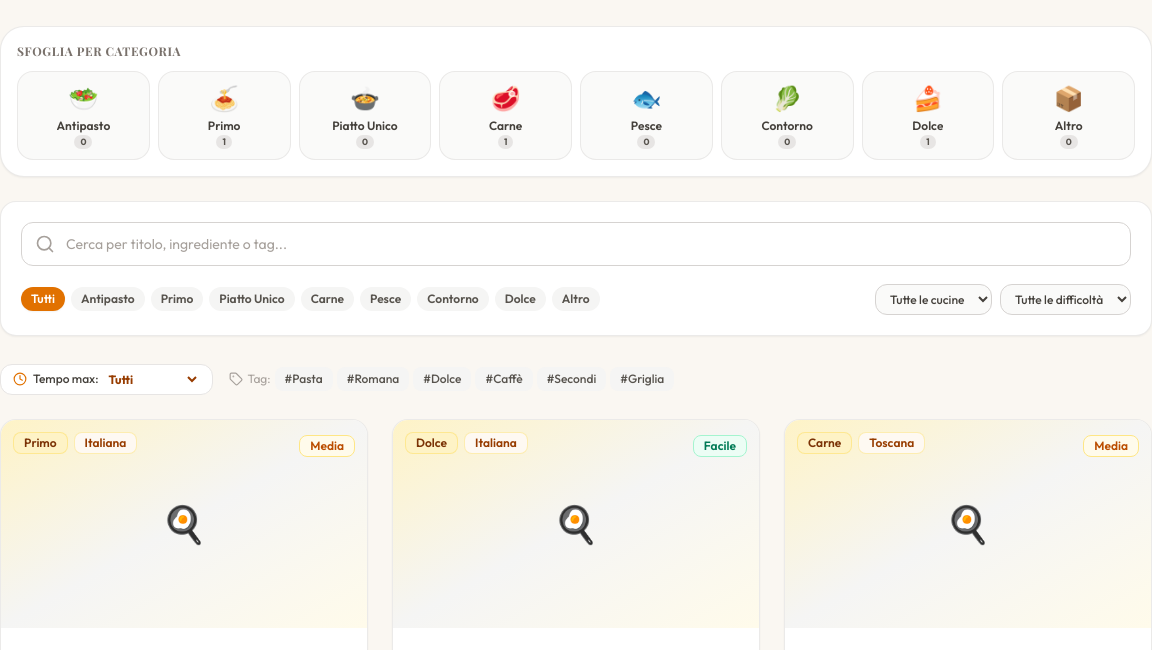
Test: C. TEST COMPONENTI & STATO - CatalogPage & Search › supporta la selezione multipla di categorie e aggiorna il conteggio/filtro
Note: Tap "Primo" category button
Click the button "🍝 Primo 1".
click(224, 115)  # box [158,71,291,160]
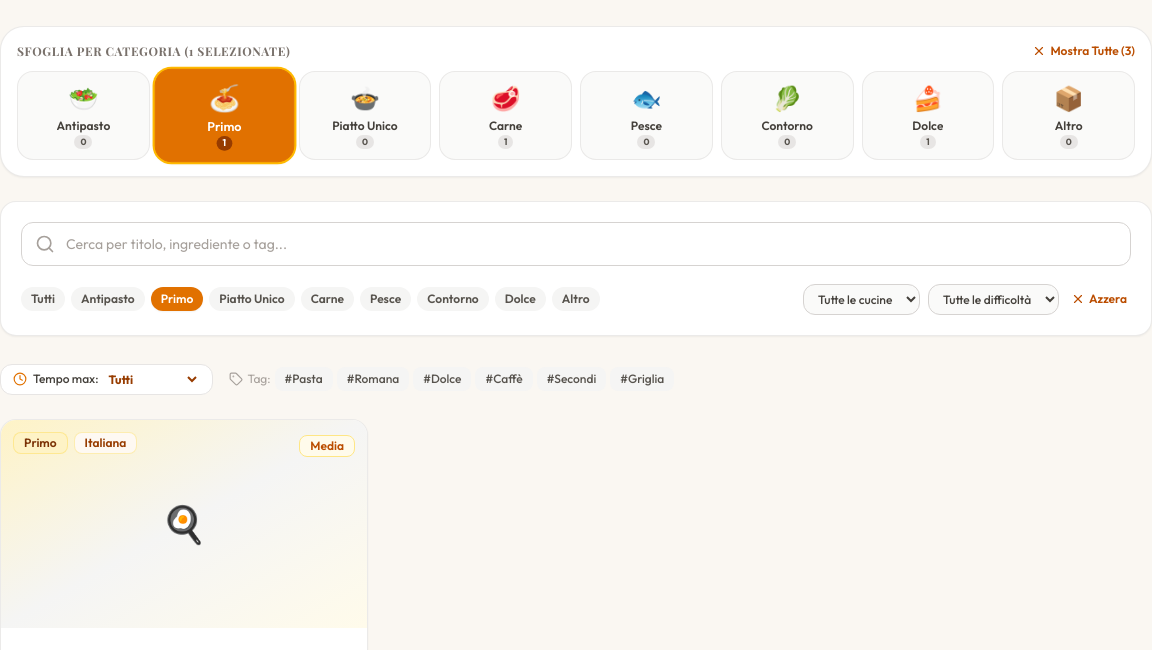
Note: Tap "Dolce" category button too (Multi-selection mode)
Click the button "🍰 Dolce 1".
click(928, 115)  # box [862,71,994,160]
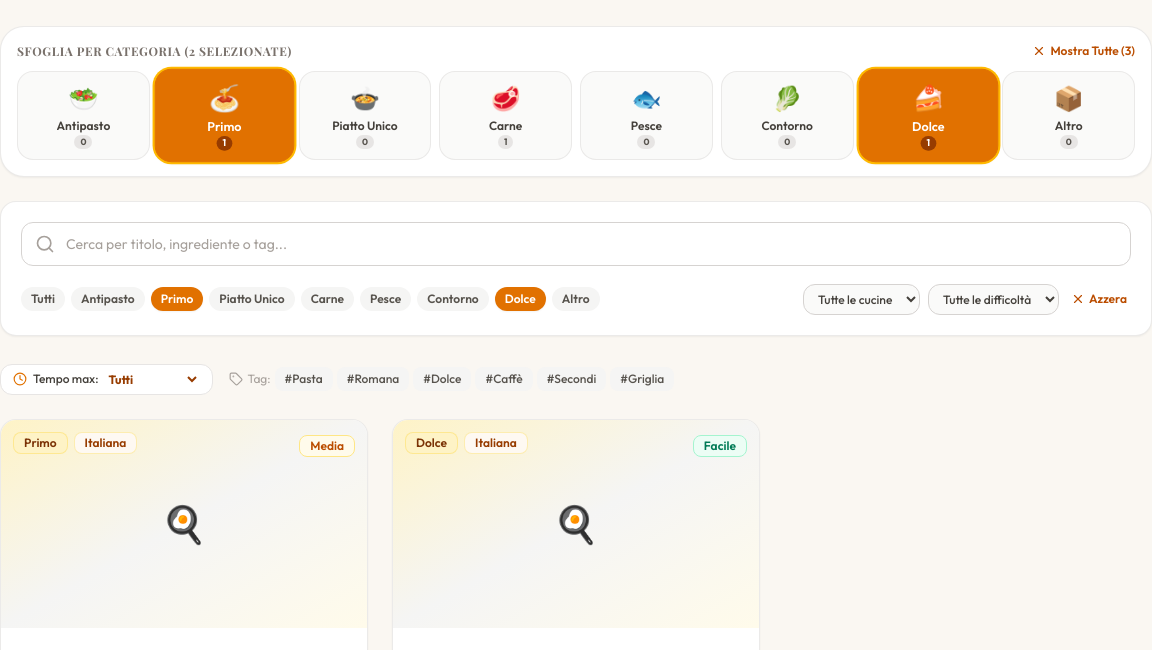
Expected: the heading "Bistecca alla Fiorentina" is not shown
Note: Clear category selection
Click the button "Mostra Tutte (3)".
click(1084, 51)  # box [1032,43,1135,59]
(page scrolled)
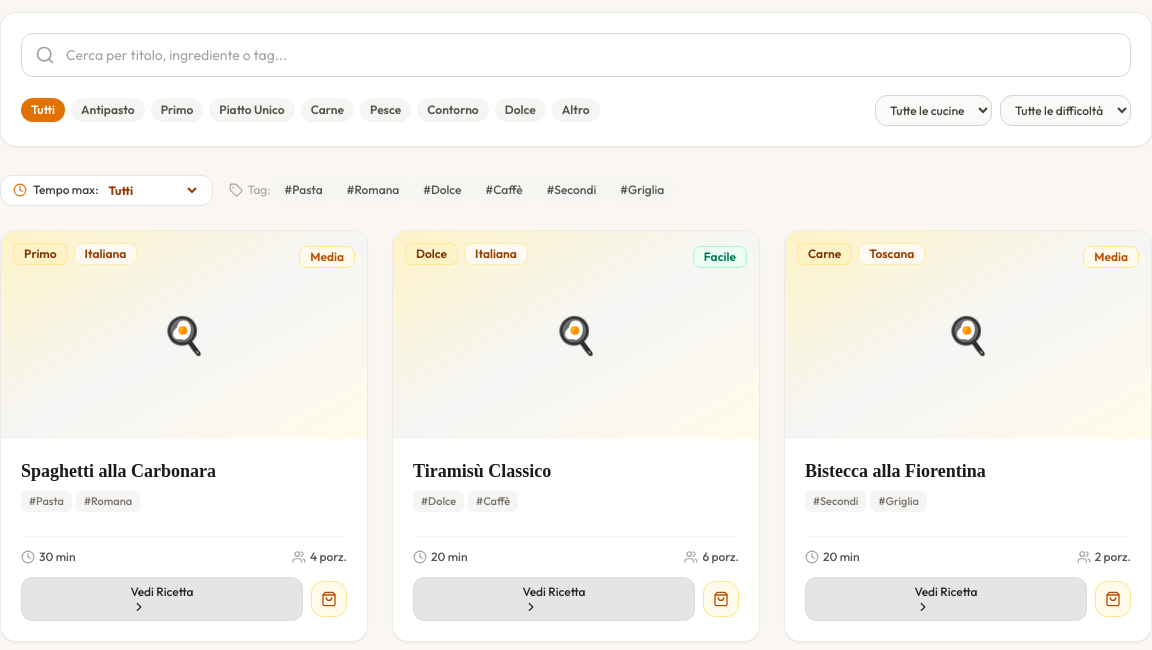
Expected: the heading "Bistecca alla Fiorentina" is shown, [805,460,986,480]
